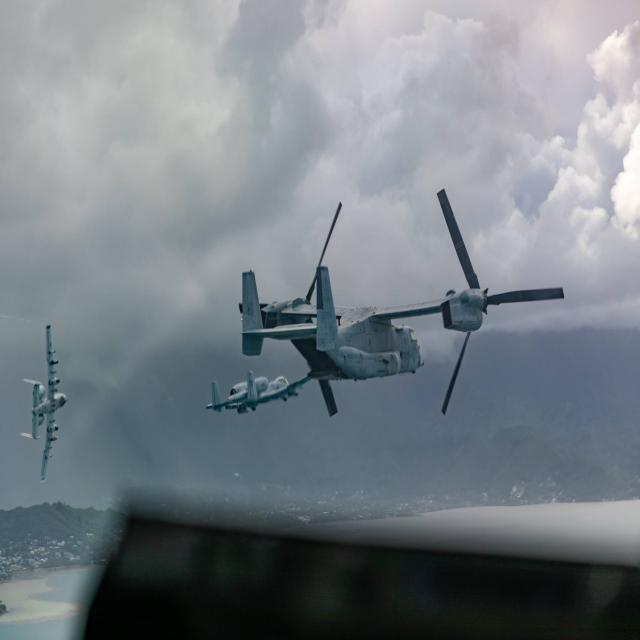MIL_Plane: (238, 188, 564, 417), (20, 325, 68, 483), (205, 370, 312, 414)
